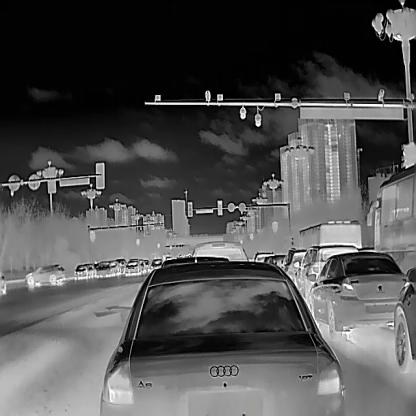bus: (364, 161, 416, 273), (297, 219, 361, 254)
car: (97, 260, 345, 415), (305, 250, 409, 342), (293, 243, 360, 301), (394, 265, 416, 372), (277, 246, 312, 280), (192, 240, 247, 260), (23, 263, 66, 285), (94, 259, 113, 277), (124, 258, 141, 276), (72, 263, 90, 280), (263, 253, 286, 265), (252, 249, 273, 261), (108, 258, 121, 276), (83, 262, 97, 278), (115, 257, 128, 274), (149, 258, 163, 272), (137, 258, 146, 273)
